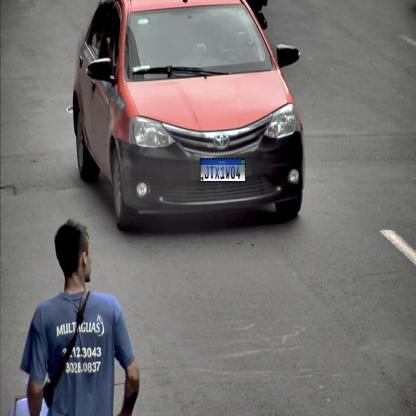PlacaM: (200, 158, 246, 182)
